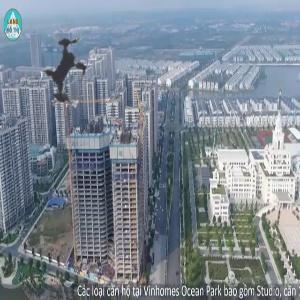drone: (11, 12, 124, 125)
